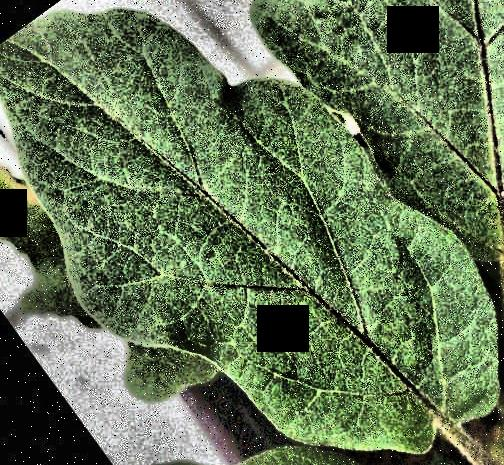HEALTHY: (0, 1, 504, 465)
